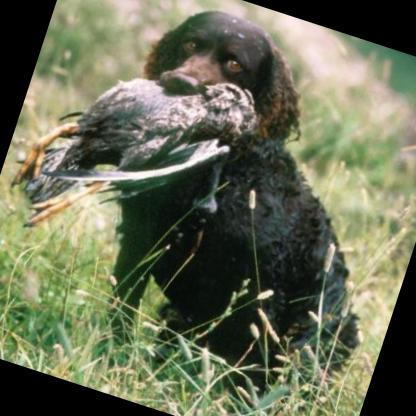Sussex_spaniel: (45, 0, 416, 416)
